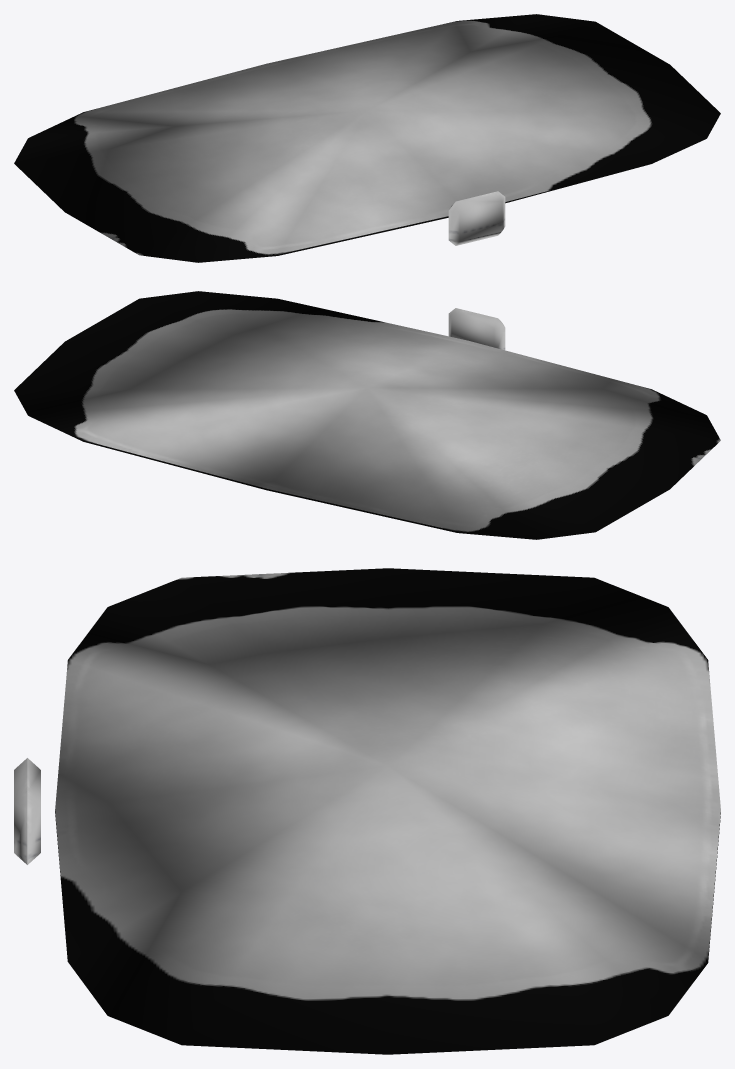
The model's file is LowerTorso_C2.fbx.
3 views of the same model, one above another, from view 1: azimuth 30°, elevation 25°; view 2: azimuth 150°, elevation 25°; view 3: azimuth 270°, elevation 25° (orthographic). The views are drawn at different scales.
Parts seen in each view (by area): view 1: Civ_Jean_LowerTorso_C2; view 2: Civ_Jean_LowerTorso_C2; view 3: Civ_Jean_LowerTorso_C2.
Part boxes in pixels (bbox=[...]): Civ_Jean_LowerTorso_C2: bbox=[14, 14, 720, 262]; Civ_Jean_LowerTorso_C2: bbox=[14, 291, 720, 539]; Civ_Jean_LowerTorso_C2: bbox=[14, 568, 720, 1054].
Size of the model in its own units: 2.29 by 0.2 by 1.4.
